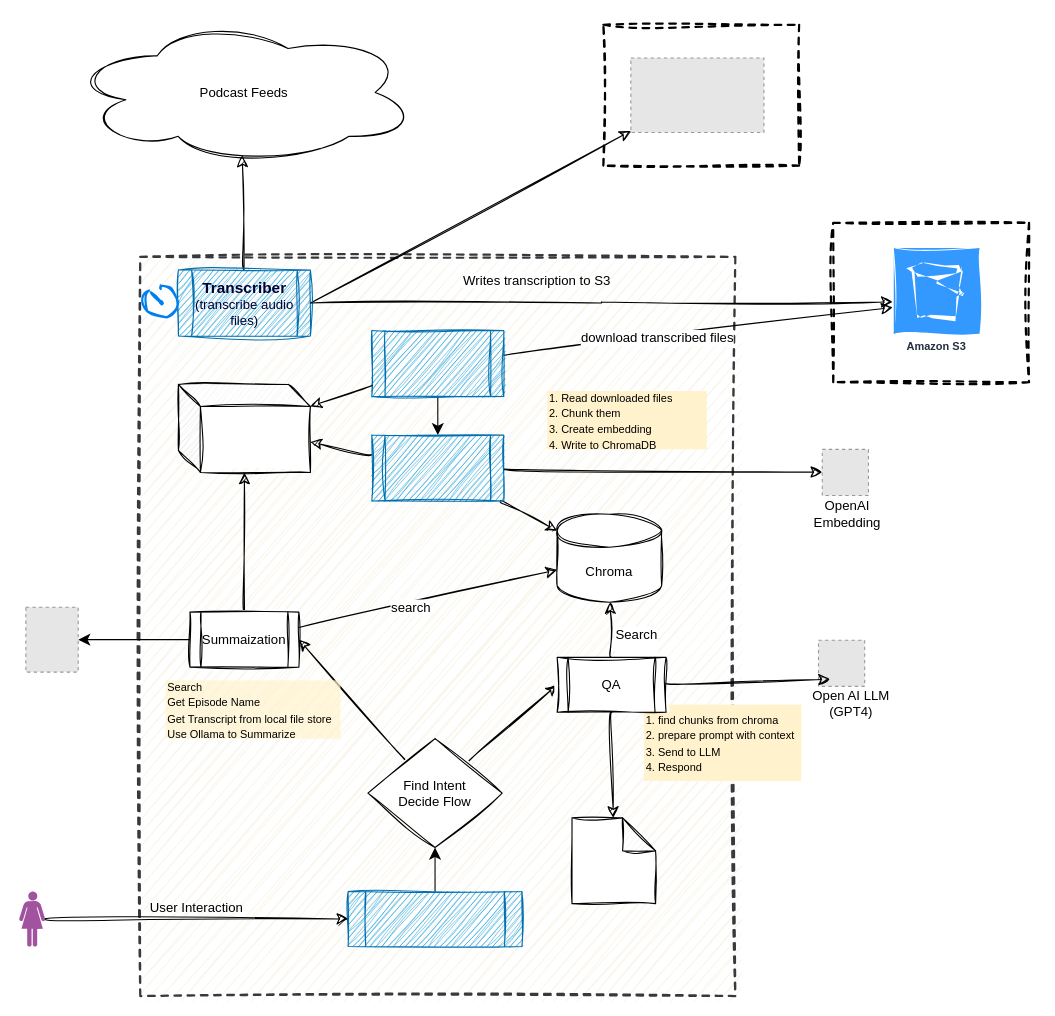
Some shapes in this 1055 by 1016 pixel diagram are drawn without their labels. Grey dashed boxes stand in for pictures. Here are the shapes that lost their labels. From the top down, the centre of each, then its label:
At (x=437, y=363): "RAG Driver (app.py)".
At (x=243, y=427): "Local file store".
At (x=437, y=467): "Generate Vector DB".
At (x=613, y=860): "Prompt Template".
At (x=434, y=918): "Query Engine".
